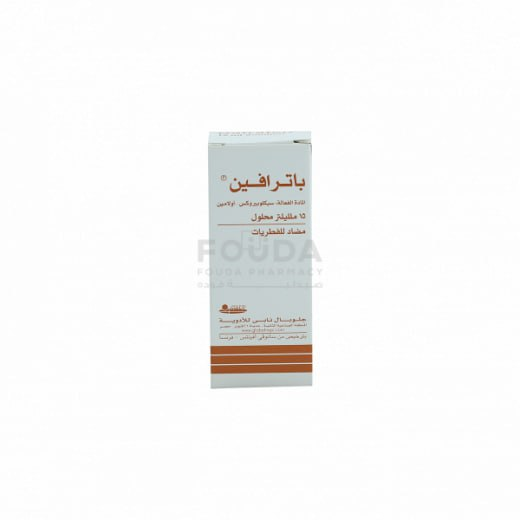Medicine: (201, 127, 316, 391)
